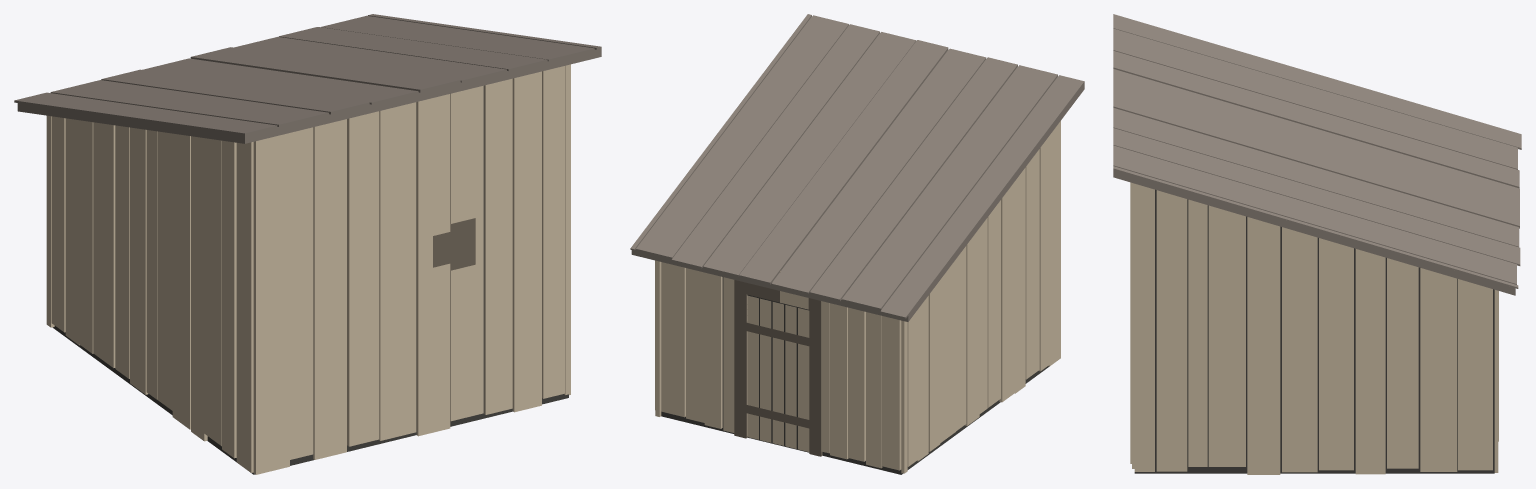
File: recon_1835_blk_randolph_dearborn_a4_13__inferred_1835.glb
The picture shows the model from 3 angles, left to right: view 1: azimuth 30°, elevation 25°; view 2: azimuth 150°, elevation 25°; view 3: azimuth 270°, elevation 25°; orthographic projection. The views are drawn at different scales.
Parts seen in each view (by area): view 1: recon_1835_blk_randolph_dearborn_a4_13__inferred_1835; view 2: recon_1835_blk_randolph_dearborn_a4_13__inferred_1835; view 3: recon_1835_blk_randolph_dearborn_a4_13__inferred_1835.
Boxes of the visible parts, left/top/right/bottom form: recon_1835_blk_randolph_dearborn_a4_13__inferred_1835: left=14, top=14, right=601, bottom=474; recon_1835_blk_randolph_dearborn_a4_13__inferred_1835: left=630, top=14, right=1084, bottom=474; recon_1835_blk_randolph_dearborn_a4_13__inferred_1835: left=1113, top=14, right=1521, bottom=474.
Size of the model in its own units: 3.77 by 3.6 by 4.22.
